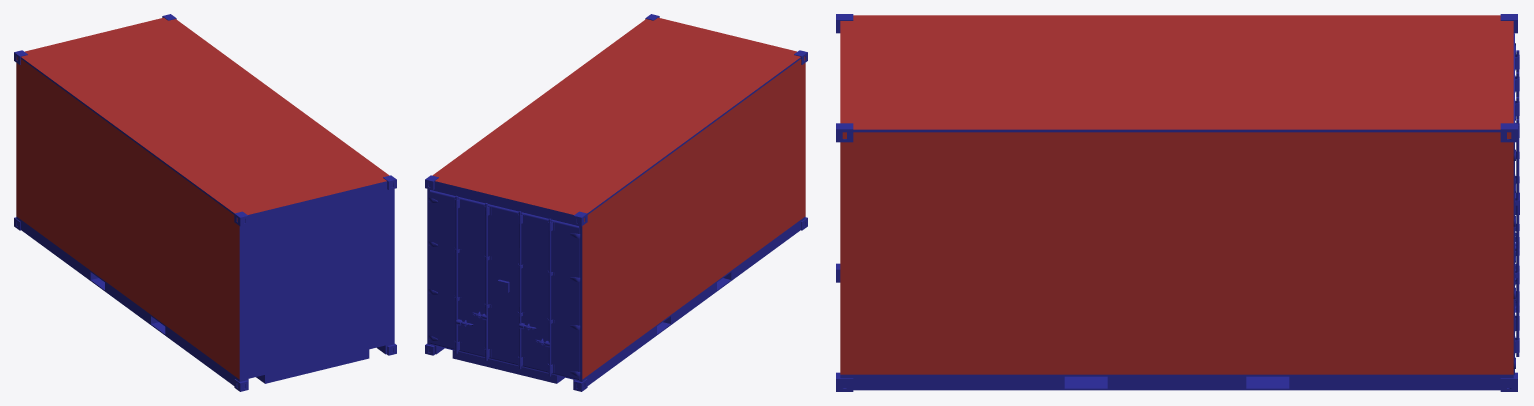
The model's file is Container 20ft sealed_LOD1.fbx.
3 views of the same model, side by side, from view 1: azimuth 30°, elevation 25°; view 2: azimuth 150°, elevation 25°; view 3: azimuth 270°, elevation 25° (orthographic). The views are drawn at different scales.
Visible parts, largest first — view 1: Container_20ft_sealed2; view 2: Container_20ft_sealed2; view 3: Container_20ft_sealed2.
Part boxes in pixels (x1,y1,x2,y2): Container_20ft_sealed2: [14, 14, 396, 391]; Container_20ft_sealed2: [425, 14, 807, 391]; Container_20ft_sealed2: [836, 14, 1519, 391].
Bounding box in the file's own units: 2.46 × 2.61 × 6.15.
